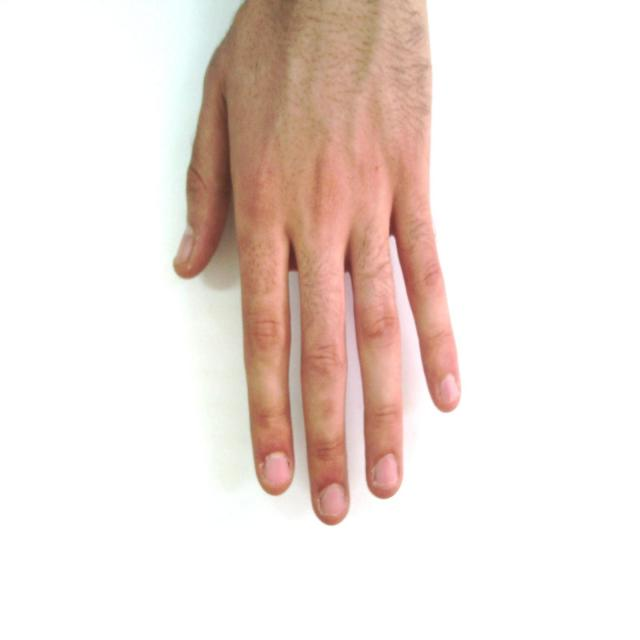others: (165, 1, 498, 566)
